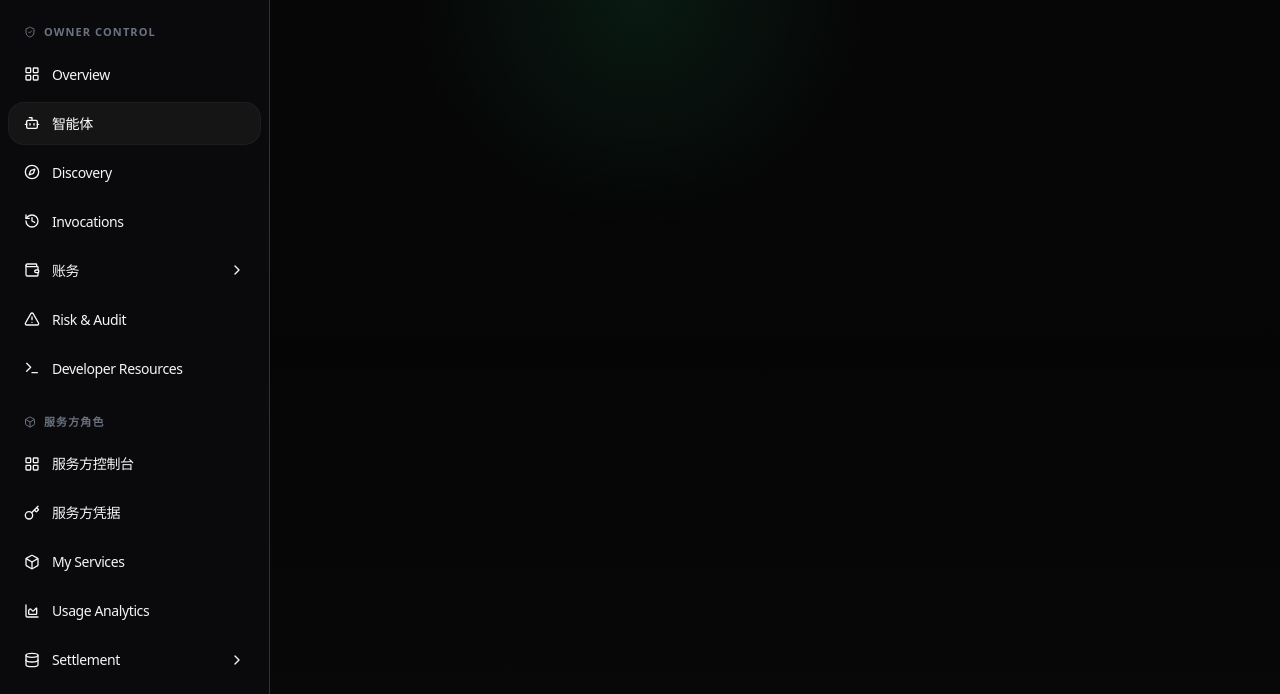
Test: DashboardSidebar › renders localized sidebar labels in Chinese
Expected: the link "智能体" is shown, top-left (8, 102), bottom-right (261, 144)
Click the button "账务".
click(134, 270)  # box top-left (8, 248), bottom-right (261, 292)
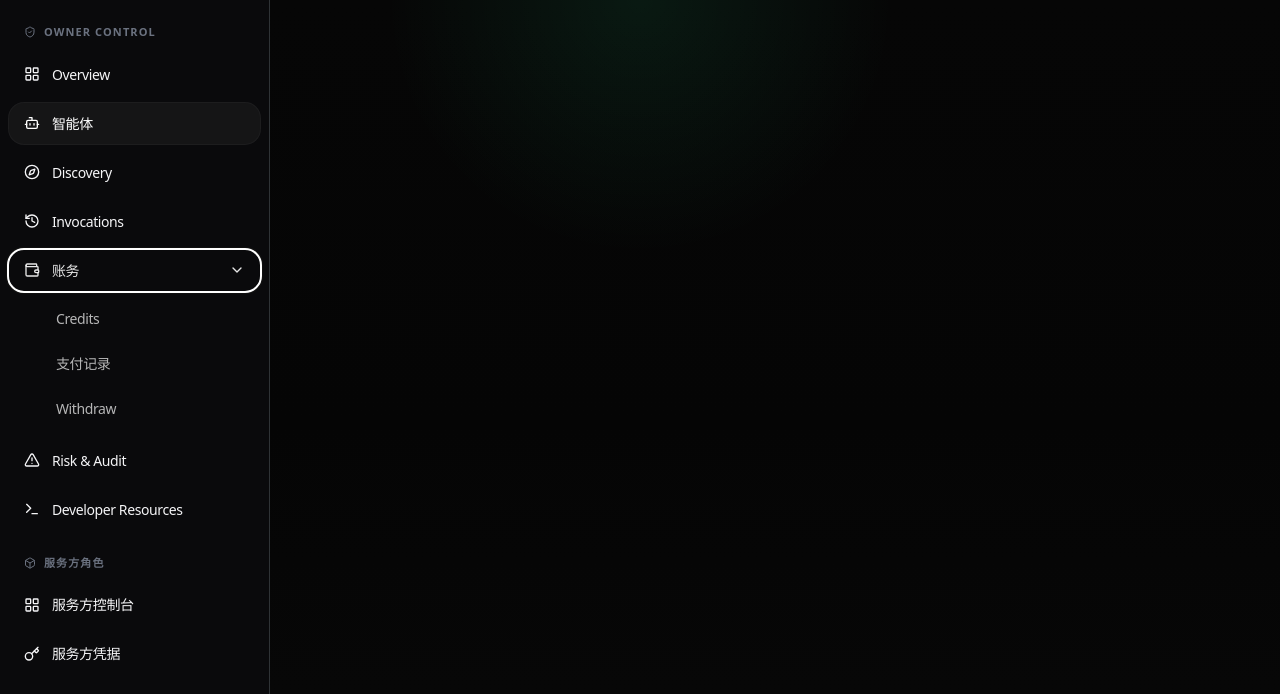
Expected: the heading "服务方角色" is shown, top-left (24, 554), bottom-right (104, 570)
Expected: the link "Credits" is shown, top-left (56, 308), bottom-right (99, 328)
Expected: the link "支付记录" is shown, top-left (56, 354), bottom-right (110, 372)
